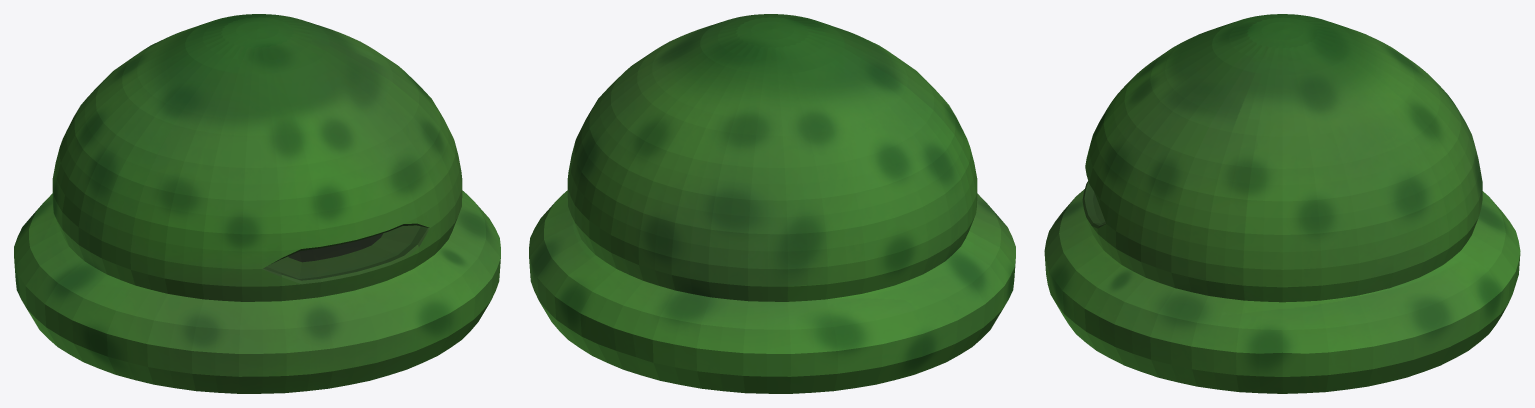
Rendered from blob4.glb.
3 renders of one model, left to right at view 1: azimuth 30°, elevation 25°; view 2: azimuth 150°, elevation 25°; view 3: azimuth 270°, elevation 25°, orthographic.
Visible parts, largest first — view 1: Sphere; view 2: Sphere; view 3: Sphere.
Boxes of the visible parts, bbox=[...] form: Sphere: bbox=[14, 14, 500, 393]; Sphere: bbox=[529, 14, 1015, 393]; Sphere: bbox=[1044, 14, 1520, 393].
Bounding box in the file's own units: 0.8791 × 0.5315 × 0.8576.
Materials: 1 (1 with a texture image).
